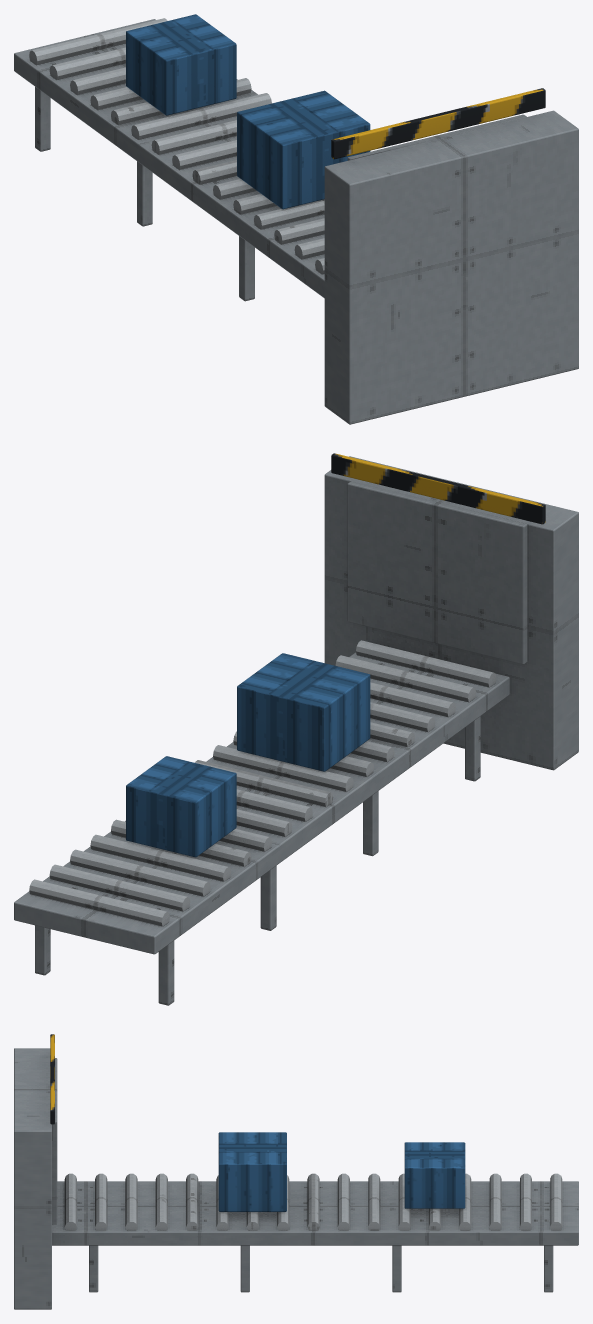
The model's file is base_conveyor.glb.
The picture shows the model from 3 angles, top to bottom: view 1: azimuth 30°, elevation 25°; view 2: azimuth 150°, elevation 25°; view 3: azimuth 270°, elevation 25°; orthographic projection. The views are drawn at different scales.
Parts seen in each view (by area): view 1: base_conveyor.001; view 2: base_conveyor.001; view 3: base_conveyor.001.
Part boxes in pixels (x1,y1,x2,y2): base_conveyor.001: (14, 14, 578, 424); base_conveyor.001: (14, 453, 578, 1005); base_conveyor.001: (14, 1034, 578, 1309).
Size of the model in its own units: 2.6 by 2.85 by 7.45.
4 materials, 4 textured.
